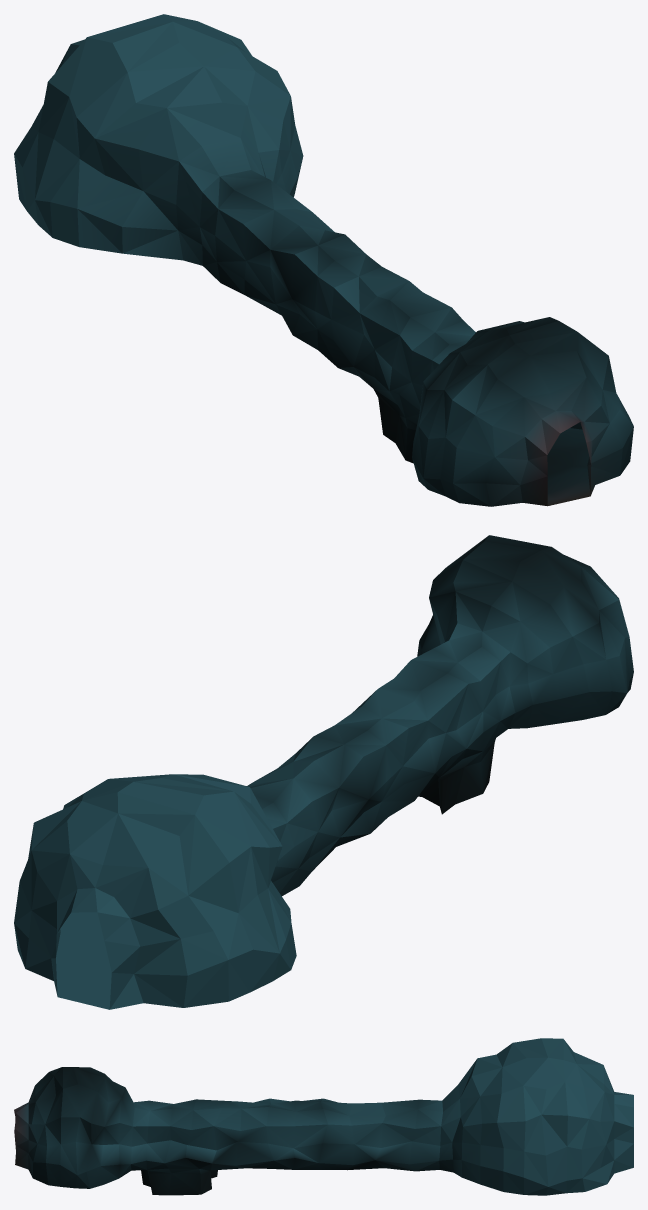
Rendered from level2Base.fbx.
3 views of the same model, one above another, from view 1: azimuth 30°, elevation 25°; view 2: azimuth 150°, elevation 25°; view 3: azimuth 270°, elevation 25° (orthographic). The views are drawn at different scales.
Parts seen in each view (by area): view 1: level2Base; view 2: level2Base; view 3: level2Base.
Part boxes in pixels (bbox=[...]): level2Base: bbox=[14, 14, 633, 506]; level2Base: bbox=[14, 535, 633, 1009]; level2Base: bbox=[14, 1038, 633, 1195].
Size of the model in its own units: 942 by 768 by 3185.
